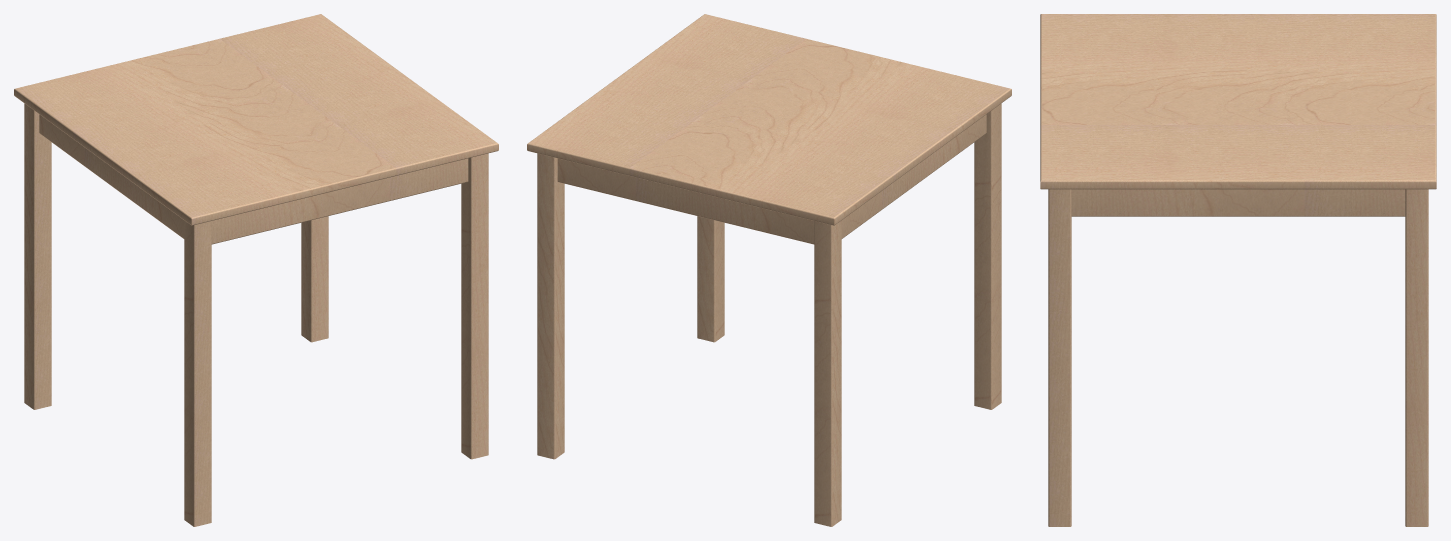
Rendered from ingo_table_3_obj0_object.obj.
The picture shows the model from 3 angles, left to right: view 1: azimuth 30°, elevation 25°; view 2: azimuth 150°, elevation 25°; view 3: azimuth 270°, elevation 25°; orthographic projection. The views are drawn at different scales.
Visible parts, largest first — view 1: Mesh1 Group1 Model; view 2: Mesh1 Group1 Model; view 3: Mesh1 Group1 Model.
Boxes of the visible parts, bbox=[...] form: Mesh1 Group1 Model: bbox=[14, 14, 498, 526]; Mesh1 Group1 Model: bbox=[527, 14, 1011, 526]; Mesh1 Group1 Model: bbox=[1040, 14, 1436, 526].
Size of the model in its own units: 750 by 730 by 750.
